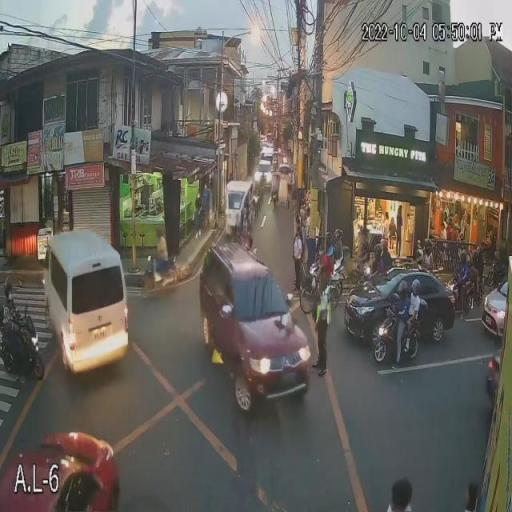helmet: (2, 275, 16, 300), (398, 279, 408, 298), (411, 278, 421, 296), (333, 228, 345, 242), (380, 238, 390, 252), (459, 250, 468, 264), (373, 243, 382, 255), (471, 249, 478, 262), (476, 246, 484, 255)
motorcycle: (0, 315, 54, 378), (374, 316, 422, 363), (445, 280, 474, 312)
rider: (1, 302, 27, 356), (394, 300, 408, 368), (406, 297, 421, 351), (457, 266, 471, 306), (380, 250, 394, 268), (370, 257, 382, 273)
